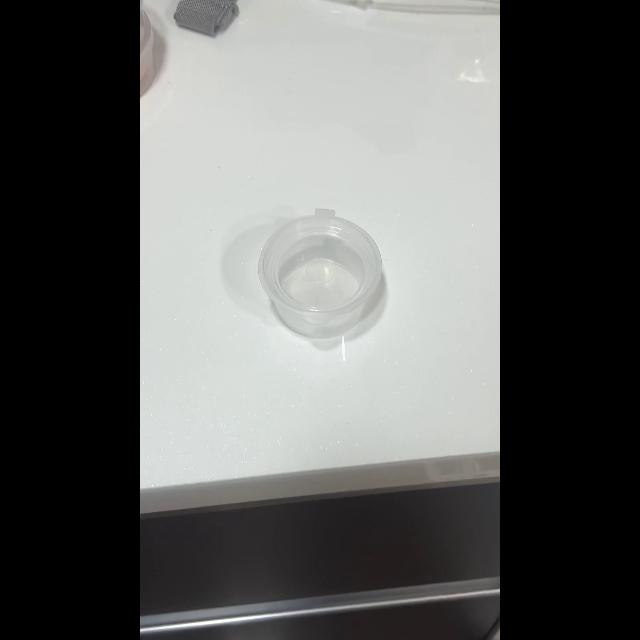clean: (262, 205, 382, 342)
